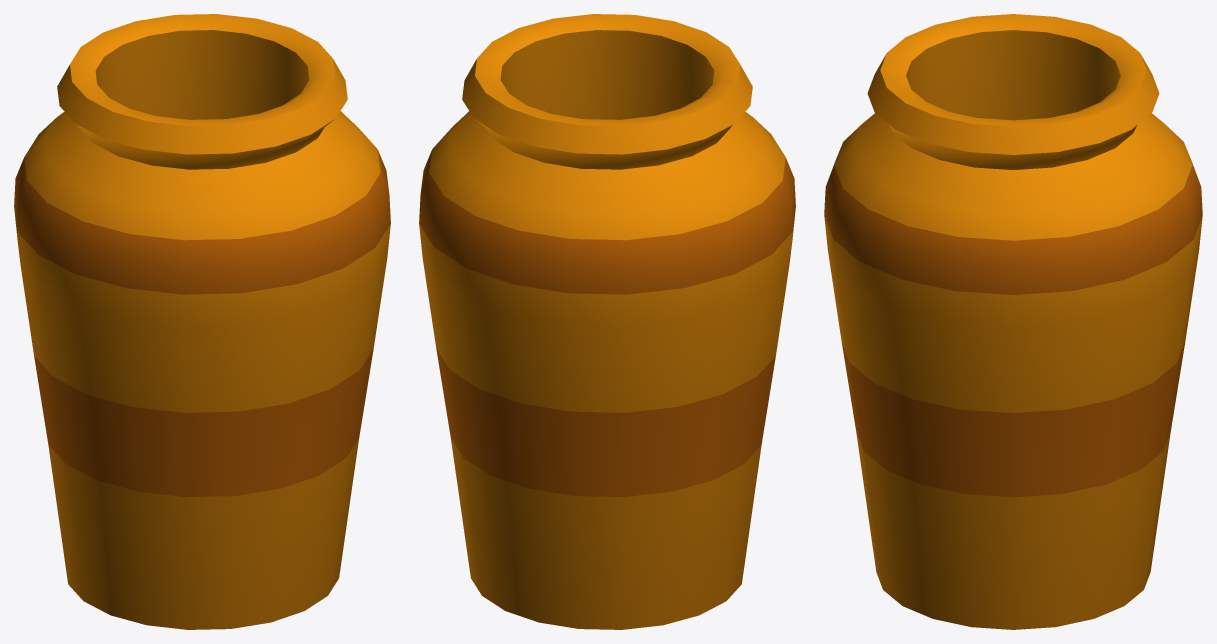
The model's file is Pottery_02.glb.
3 renders of one model, left to right at view 1: azimuth 30°, elevation 25°; view 2: azimuth 150°, elevation 25°; view 3: azimuth 270°, elevation 25°, orthographic.
Parts seen in each view (by area): view 1: Pottery_02; view 2: Pottery_02; view 3: Pottery_02.
Part boxes in pixels (x1=…): Pottery_02: x1=14, y1=14, x2=390, y2=629; Pottery_02: x1=419, y1=14, x2=795, y2=629; Pottery_02: x1=824, y1=14, x2=1202, y2=629.
Size of the model in its own units: 0.3152 by 0.4609 by 0.3152.
1 material, 1 textured.
